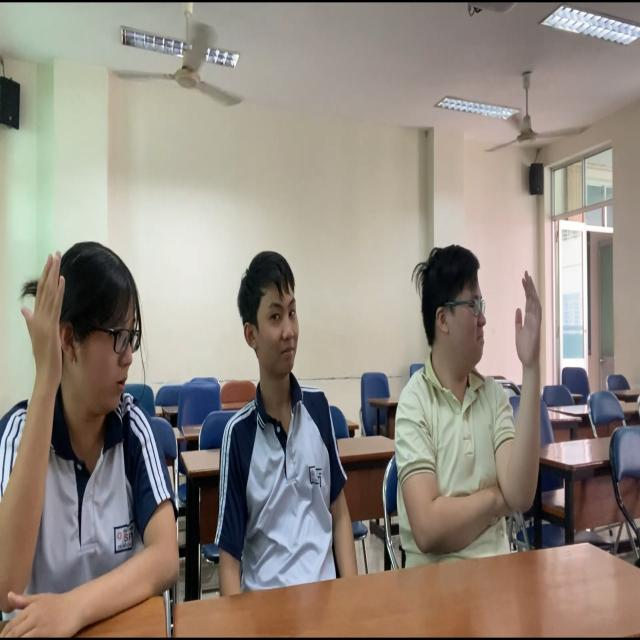raise_hand: (2, 231, 199, 637), (377, 230, 552, 563)
